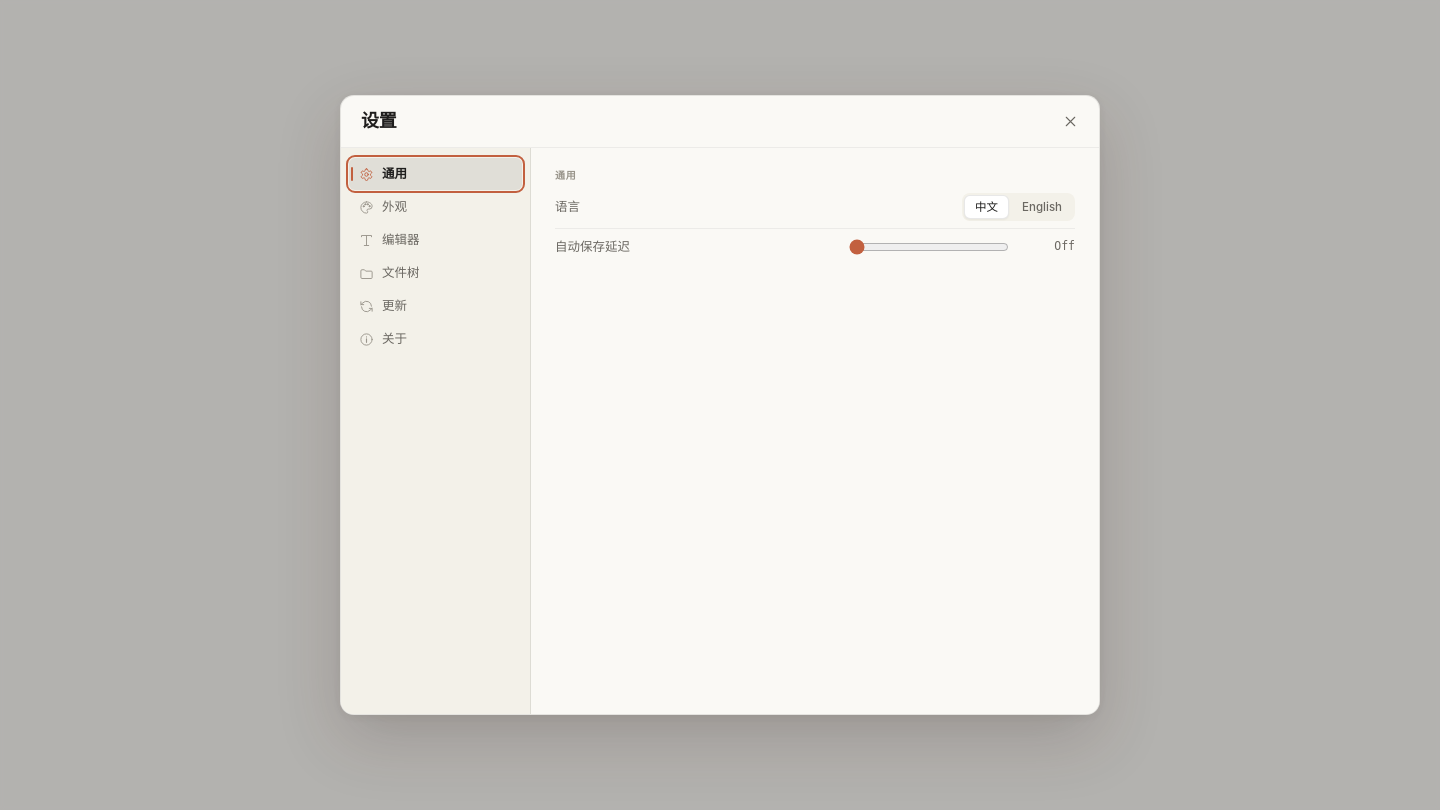
SettingsDialog › renders the dialog title and switches language
This screenshot has width=1440, height=810.
Check: the heading "设置" is shown, box [361,111,397,131]
Click the button "English". click: {"x": 1042, "y": 207}
box: [1011,195,1073,219]
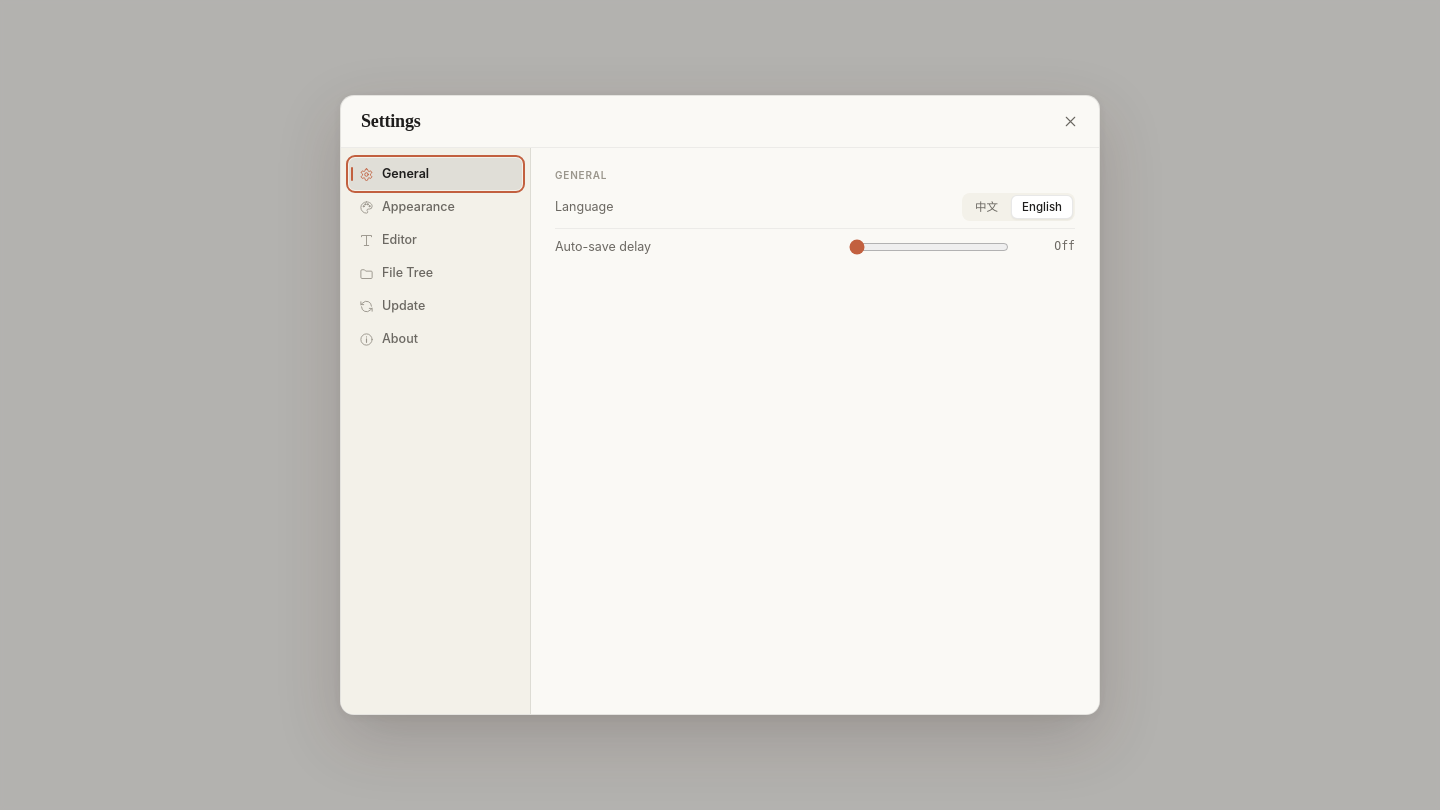
Check: the heading "Settings" is shown, box [361,111,421,131]
